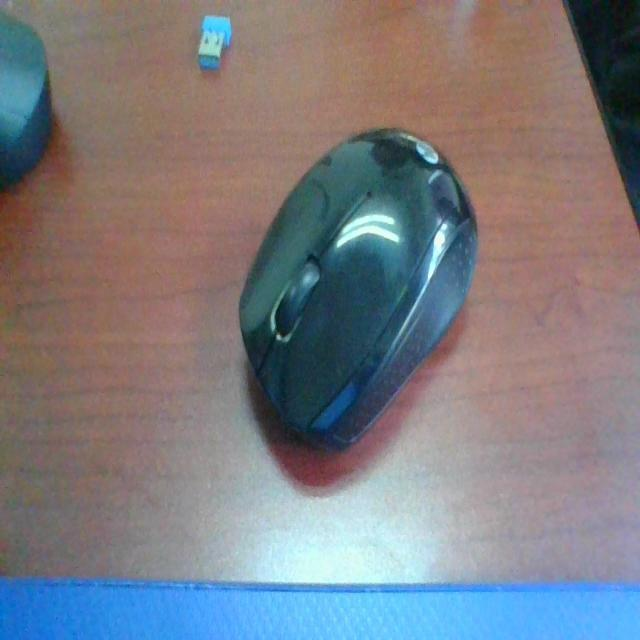mouse: (231, 116, 501, 477)
